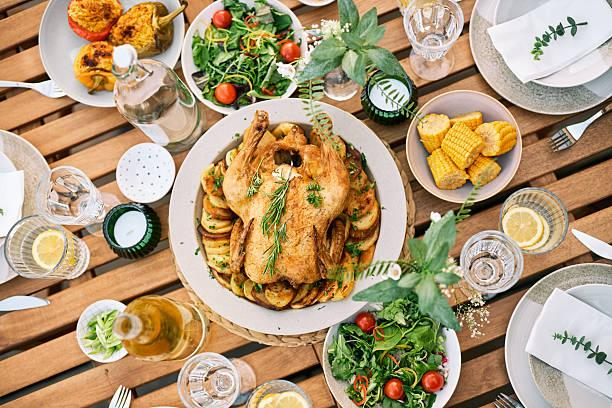Braised Crucian Carp: (168, 97, 400, 334), (38, 0, 182, 109), (180, 0, 304, 116), (404, 89, 522, 205), (320, 308, 459, 406)
